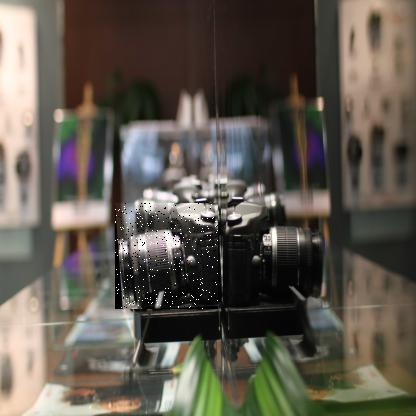Camera: (116, 204, 220, 311)
